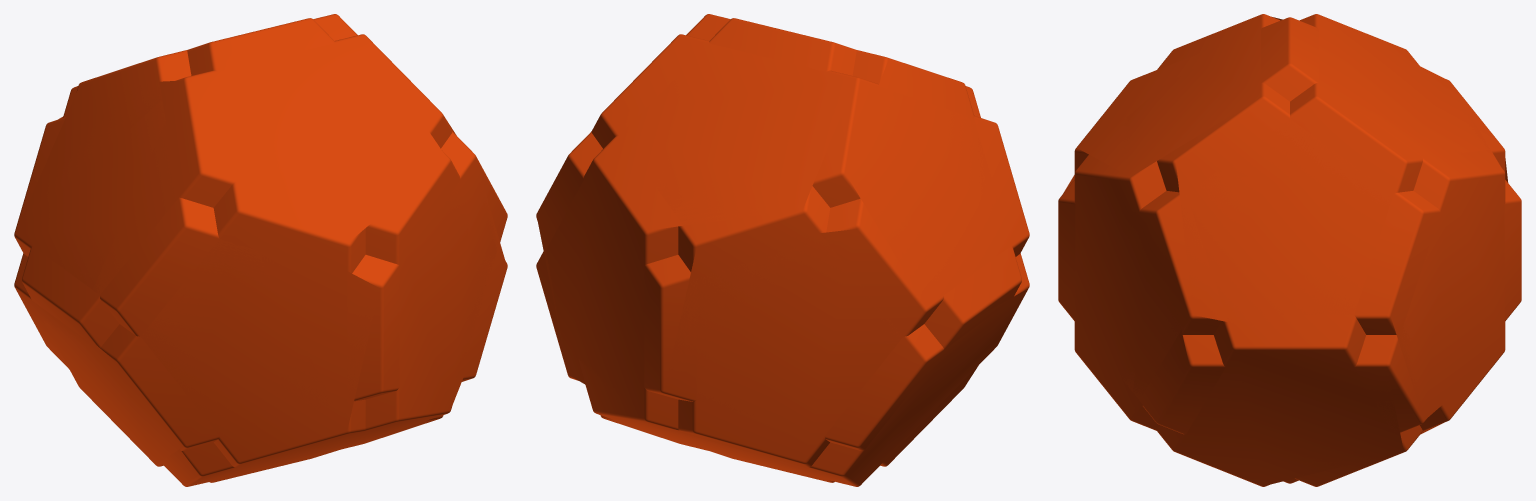
The model's file is animated.gltf.
The picture shows the model from 3 angles, left to right: view 1: azimuth 30°, elevation 25°; view 2: azimuth 150°, elevation 25°; view 3: azimuth 270°, elevation 25°; orthographic projection. The views are drawn at different scales.
Parts seen in each view (by area): view 1: Hedra006; view 2: Hedra006; view 3: Hedra006.
Boxes of the visible parts, x1,y1,x2,y2 form: Hedra006: [14, 14, 507, 486]; Hedra006: [536, 14, 1029, 486]; Hedra006: [1058, 14, 1521, 486].
Size of the model in its own units: 2.46 by 2.46 by 2.46.
